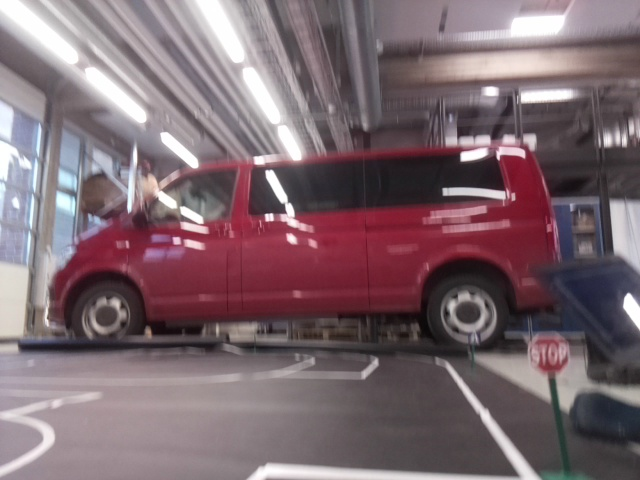Crosswalk: (469, 330, 479, 345)
Stop: (527, 331, 568, 374)
